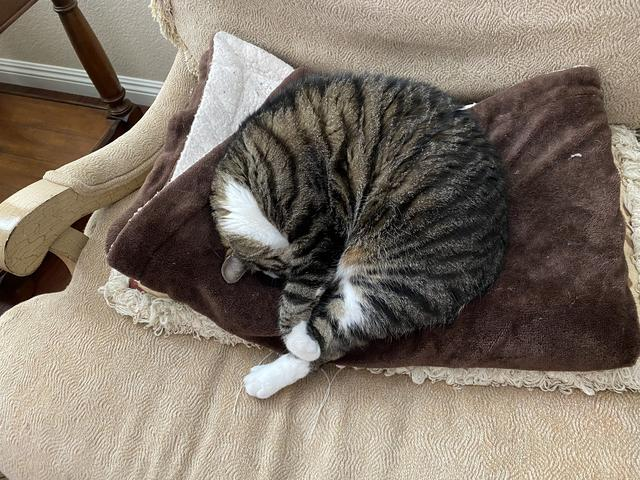playdoh: (206, 76, 511, 401)
